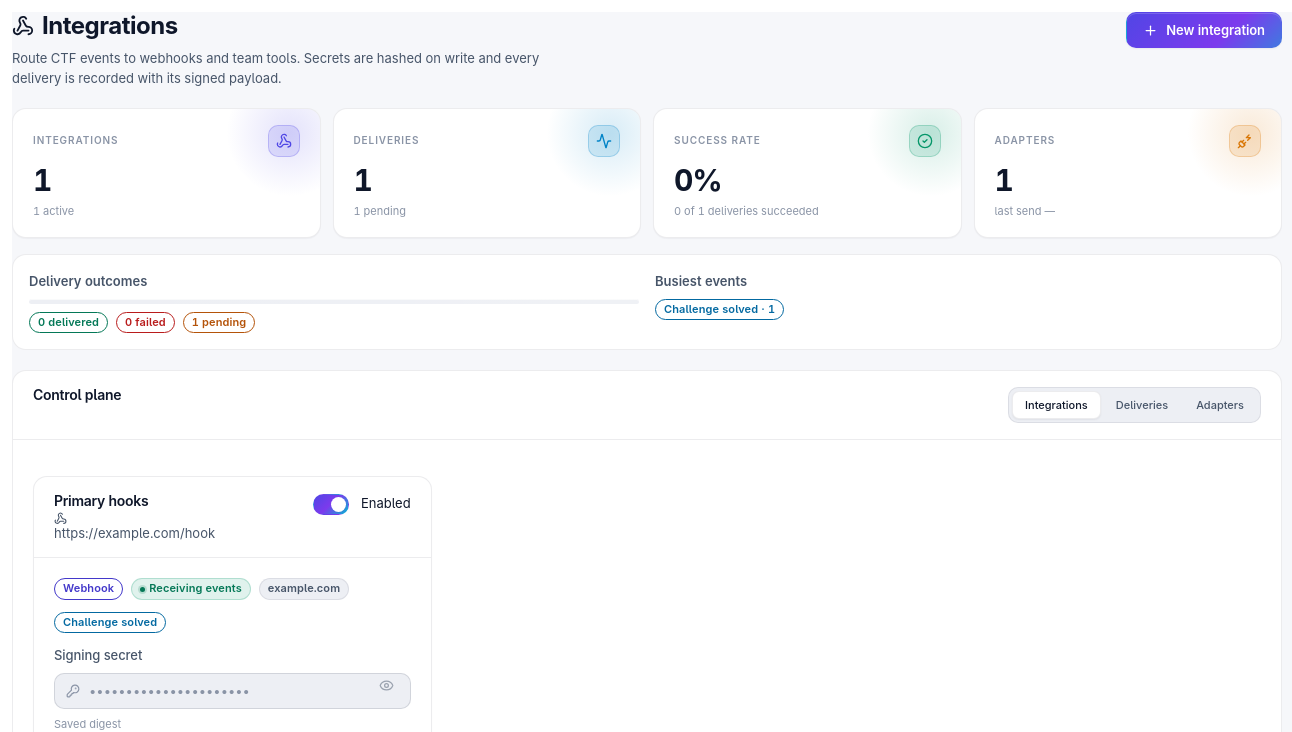
Scenario: IntegrationsPage › toggles an integration and shows the result
What coordinates should you click on to do the following:
click the switch named "Enable Primary hooks"
I would click on:
 (362, 504)
Its box is [313,493,411,515].
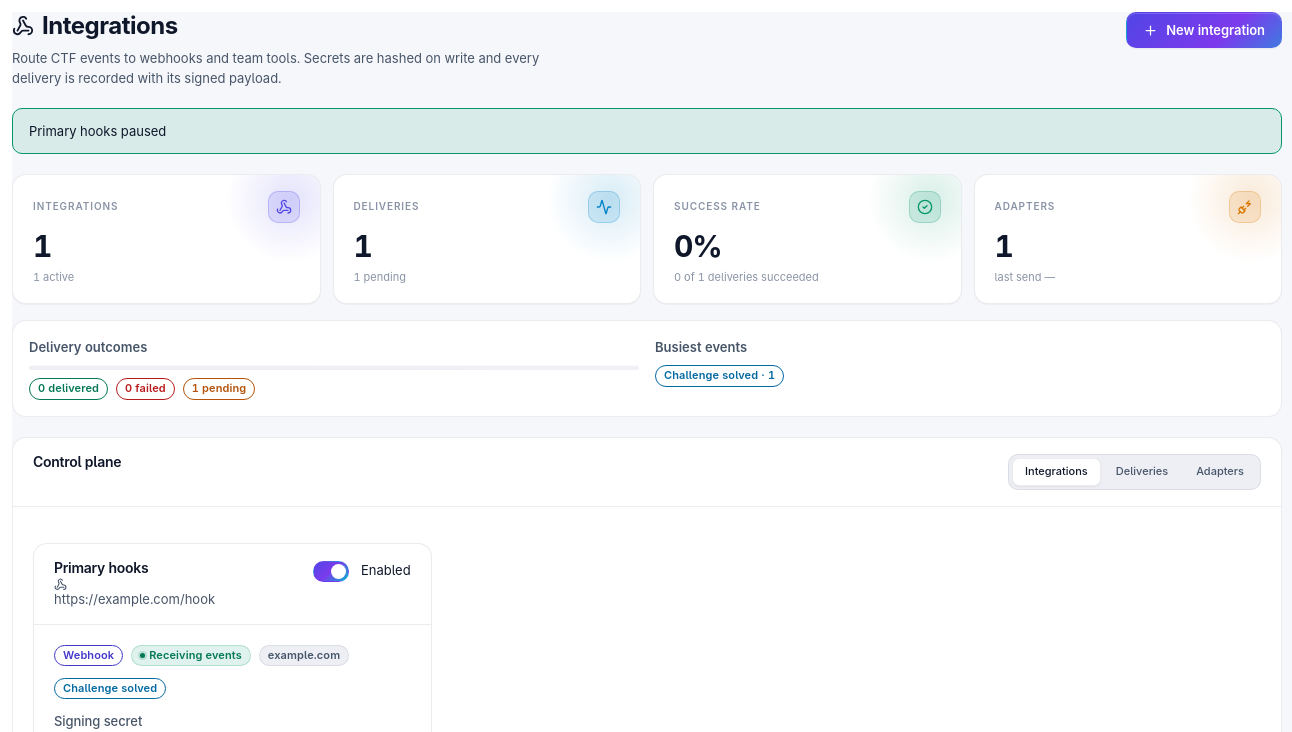
Now the text "Primary hooks paused" is shown, box [12,108,1282,154]
